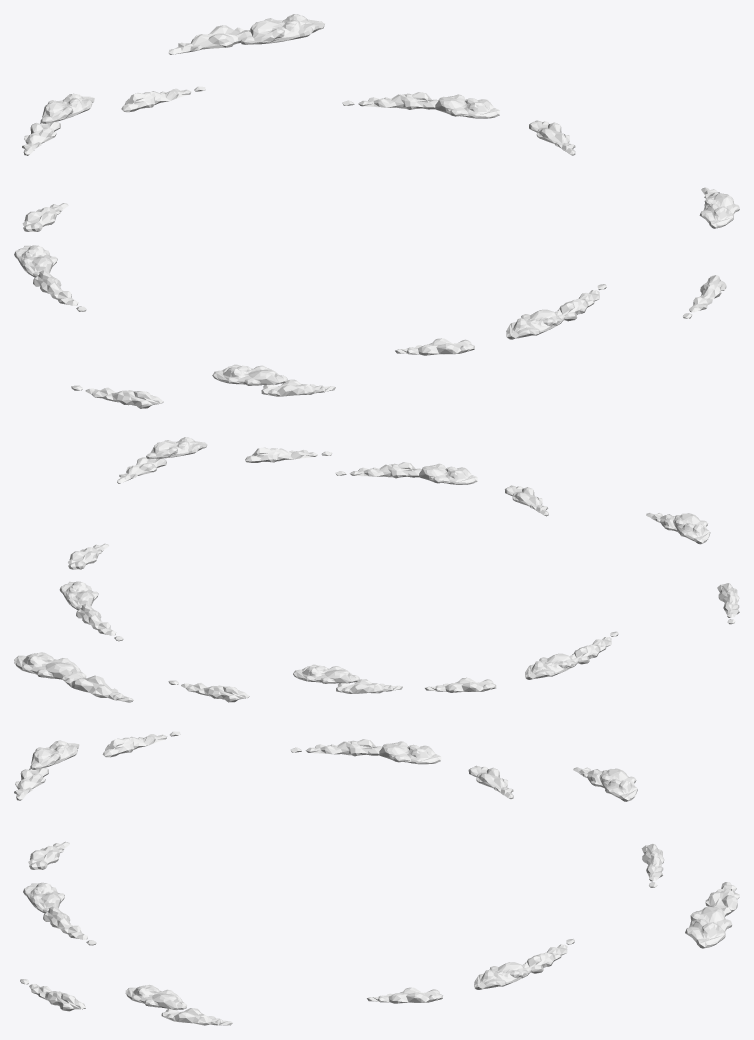
The model's file is cloud.glb.
The picture shows the model from 3 angles, top to bottom: view 1: azimuth 30°, elevation 25°; view 2: azimuth 150°, elevation 25°; view 3: azimuth 270°, elevation 25°; orthographic projection. The views are drawn at different scales.
Visible parts, largest first — view 1: SM_Generic_Cloud_03 (6), SM_Generic_Cloud_02 (6), SM_Generic_Cloud_03 (4), SM_Generic_Cloud_03 (1), SM_Generic_Cloud_03, SM_Generic_Cloud_03 (3), SM_Generic_Cloud_01 (1), SM_Generic_Cloud_01 (4), SM_Generic_Cloud_03 (5), SM_Generic_Cloud_03 (2), SM_Generic_Cloud_01 (3), SM_Generic_Cloud_02 (+7 smaller); view 2: SM_Generic_Cloud_03 (6), SM_Generic_Cloud_02 (6), SM_Generic_Cloud_03 (3), SM_Generic_Cloud_03, SM_Generic_Cloud_03 (2), SM_Generic_Cloud_03 (5), SM_Generic_Cloud_01, SM_Generic_Cloud_03 (4), SM_Generic_Cloud_01 (5), SM_Generic_Cloud_01 (3), SM_Generic_Cloud_03 (1), SM_Generic_Cloud_02 (2) (+7 smaller); view 3: SM_Generic_Cloud_03 (6), SM_Generic_Cloud_03 (2), SM_Generic_Cloud_03 (1), SM_Generic_Cloud_03 (5), SM_Generic_Cloud_01 (2), SM_Generic_Cloud_03 (4), SM_Generic_Cloud_03 (3), SM_Generic_Cloud_03, SM_Generic_Cloud_01 (4), SM_Generic_Cloud_02 (1), SM_Generic_Cloud_01 (5), SM_Generic_Cloud_02 (5) (+7 smaller).
Boxes of the visible parts, left/top/right/bottom form: SM_Generic_Cloud_03 (6): left=240, top=14, right=324, bottom=44; SM_Generic_Cloud_02 (6): left=168, top=25, right=252, bottom=54; SM_Generic_Cloud_03 (4): left=212, top=364, right=287, bottom=385; SM_Generic_Cloud_03 (1): left=433, top=94, right=500, bottom=118; SM_Generic_Cloud_03: left=506, top=309, right=565, bottom=339; SM_Generic_Cloud_03 (3): left=40, top=93, right=94, bottom=123; SM_Generic_Cloud_01 (1): left=342, top=92, right=437, bottom=109; SM_Generic_Cloud_01 (4): left=71, top=385, right=163, bottom=408; SM_Generic_Cloud_03 (5): left=699, top=193, right=739, bottom=228; SM_Generic_Cloud_03 (2): left=14, top=245, right=57, bottom=277; SM_Generic_Cloud_01 (3): left=121, top=86, right=205, bottom=112; SM_Generic_Cloud_02: left=395, top=338, right=474, bottom=355; SM_Generic_Cloud_03 (6): left=14, top=652, right=86, bottom=679; SM_Generic_Cloud_02 (6): left=62, top=671, right=133, bottom=702; SM_Generic_Cloud_03 (3): left=293, top=664, right=359, bottom=683; SM_Generic_Cloud_03: left=416, top=463, right=477, bottom=484; SM_Generic_Cloud_03 (2): left=525, top=653, right=578, bottom=679; SM_Generic_Cloud_03 (5): left=146, top=437, right=207, bottom=458; SM_Generic_Cloud_01: left=335, top=462, right=421, bottom=478; SM_Generic_Cloud_03 (4): left=673, top=513, right=710, bottom=544; SM_Generic_Cloud_01 (5): left=245, top=447, right=331, bottom=462; SM_Generic_Cloud_01 (3): left=168, top=680, right=249, bottom=702; SM_Generic_Cloud_03 (1): left=59, top=581, right=98, bottom=609; SM_Generic_Cloud_02 (2): left=425, top=677, right=496, bottom=692; SM_Generic_Cloud_03 (6): left=685, top=906, right=732, bottom=948; SM_Generic_Cloud_03 (2): left=377, top=741, right=441, bottom=764; SM_Generic_Cloud_03 (1): left=474, top=962, right=531, bottom=989; SM_Generic_Cloud_03 (5): left=125, top=984, right=186, bottom=1009; SM_Generic_Cloud_01 (2): left=290, top=739, right=381, bottom=756; SM_Generic_Cloud_03 (4): left=30, top=740, right=79, bottom=769; SM_Generic_Cloud_03 (3): left=599, top=768, right=637, bottom=801; SM_Generic_Cloud_03: left=23, top=882, right=64, bottom=913; SM_Generic_Cloud_01 (4): left=102, top=731, right=180, bottom=757; SM_Generic_Cloud_02 (1): left=367, top=987, right=443, bottom=1003; SM_Generic_Cloud_01 (5): left=20, top=979, right=85, bottom=1011; SM_Generic_Cloud_02 (5): left=161, top=1008, right=232, bottom=1025.
Size of the model in its own units: 270 by 26.45 by 267.
1 material, 1 textured.
